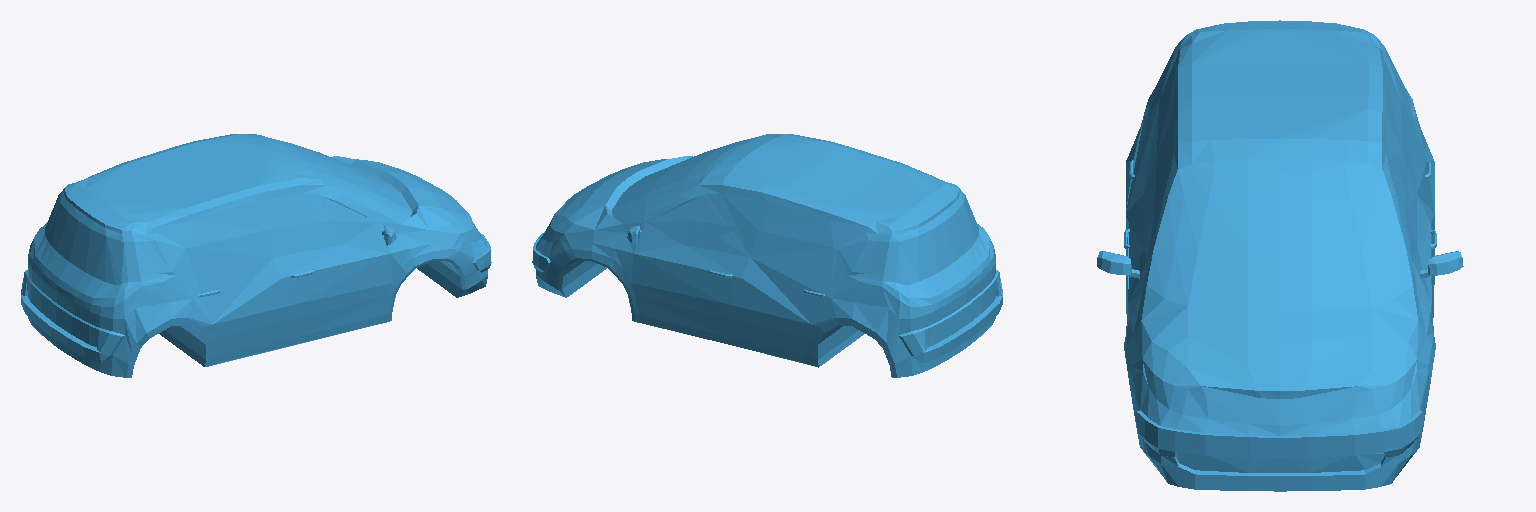
robot.urdf — zoe:
<?xml version="1.0"?>
<robot name="zoe">

  <!-- Base link -->
  
<link name="base_link">
  <inertial>
    <mass value="1"/>
    <inertia ixx="0.001" ixy="0.0" ixz="0.0"
              iyy="0.001" iyz="0.0" izz="0.001"/>
  </inertial>
</link>

<joint name="base_link_connection" type="fixed">
  <parent link="base_link"/>
  <child link="chassis"/>
  <origin xyz="1.45 0 0" rpy="0 0 1.57"/>
</joint>

<link name="chassis">
  <visual>
    <origin xyz="0 1.25 0" rpy="0 0 3.1415"/>
    <geometry>
      <mesh filename="package://zoe_follow_waypoint/meshes/zoe.dae"/>
    </geometry>
  </visual>
</link>

  <!-- Child links -->
  <link name="zoe_trunk_frame"/>
  <link name="antenne_frame"/>
  <link name="hesai_frame"/>
  <link name="novatel_frame"/>
  <link name="sick_frame"/>
  <link name="velodyne_frame"/>
  <link name="os3d_frame"/>
  <link name="front_axle"/>

  <!-- Joints -->
  <joint name="zoe_trunk_joint" type="fixed">
    <parent link="base_link"/>
    <child link="zoe_trunk_frame"/>
    <origin xyz="0.0 -0.657 0.724" rpy="0 0 0"/>
  </joint>

  <joint name="front_axle_joint" type="fixed">
    <parent link="base_link"/>
    <child link="front_axle"/>
    <origin xyz="2.588 0 0" rpy="0 0 0"/>
  </joint>

  <joint name="antenne_joint" type="fixed">
    <parent link="base_link"/>
    <child link="antenne_frame"/>
    <origin xyz="0.78 0.16 1.52" rpy="0 0 0"/>
  </joint>

  <joint name="hesai_joint" type="fixed">
    <parent link="base_link"/>
    <child link="hesai_frame"/>
    <origin xyz="-0.77 0.0 1.83" rpy="0 0 0"/>
  </joint>

  <joint name="novatel_joint" type="fixed">
    <parent link="base_link"/>
    <child link="novatel_frame"/>
    <origin xyz="0.79 -0.18 1.52" rpy="0 0 0"/>
  </joint>

  <joint name="sick_joint" type="fixed">
    <parent link="base_link"/>
    <child link="sick_frame"/>
    <origin xyz="0.52 0.0 0.41" rpy="0 0 0"/>
  </joint>

  <joint name="velodyne_joint" type="fixed">
    <parent link="base_link"/>
    <child link="velodyne_frame"/>
    <origin xyz="0.5 0.78 1.4" rpy="1.5708 0 1.5708"/>
  </joint>

  <joint name="os3d_joint" type="fixed">
    <parent link="base_link"/>
    <child link="os3d_frame"/>
    <origin xyz="0.0 -0.27 1.02" rpy="0 0 0"/>
  </joint>

</robot>

--- What the picture shows (computed from the rendered views, not written in the file) ---
Views: 3 orthographic renders of the robot side by side, from view 1: azimuth 30°, elevation 25°; view 2: azimuth 150°, elevation 25°; view 3: azimuth 270°, elevation 25°.
Robot: zoe — 10 links, 9 joints (9 fixed); root link base_link; default pose: every joint at zero.
Visible links, largest first — view 1: chassis; view 2: chassis; view 3: chassis.
Boxes of the visible links, left/top/right/bottom form: chassis: left=21, top=134, right=491, bottom=377; chassis: left=532, top=134, right=1002, bottom=377; chassis: left=1097, top=20, right=1463, bottom=491.
Bounding box of the posed robot: 4.05 × 2.13 × 1.42 m (x, y, z).
Meshes: 1 distinct files referenced, 1 mesh visuals loaded (1 Collada DAE).
